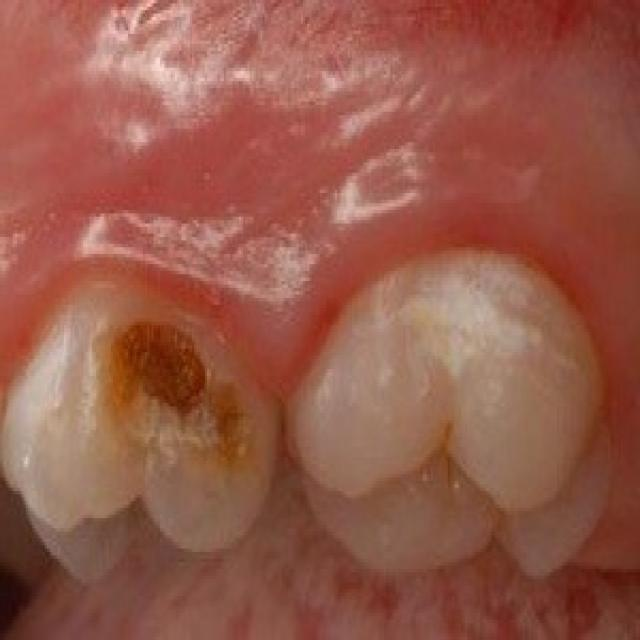Cavity: (38, 302, 282, 544)
